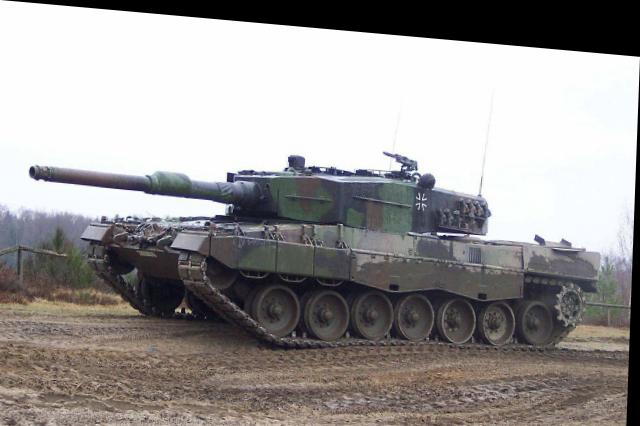tank: (79, 130, 600, 352)
